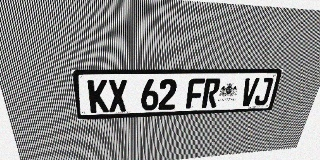2: (158, 79, 177, 110)
6: (141, 79, 159, 111)
F: (186, 78, 205, 109)
J: (253, 77, 274, 106)
K: (87, 80, 109, 113)
R: (201, 78, 221, 108)
V: (239, 78, 260, 106)
X: (108, 79, 127, 112)
